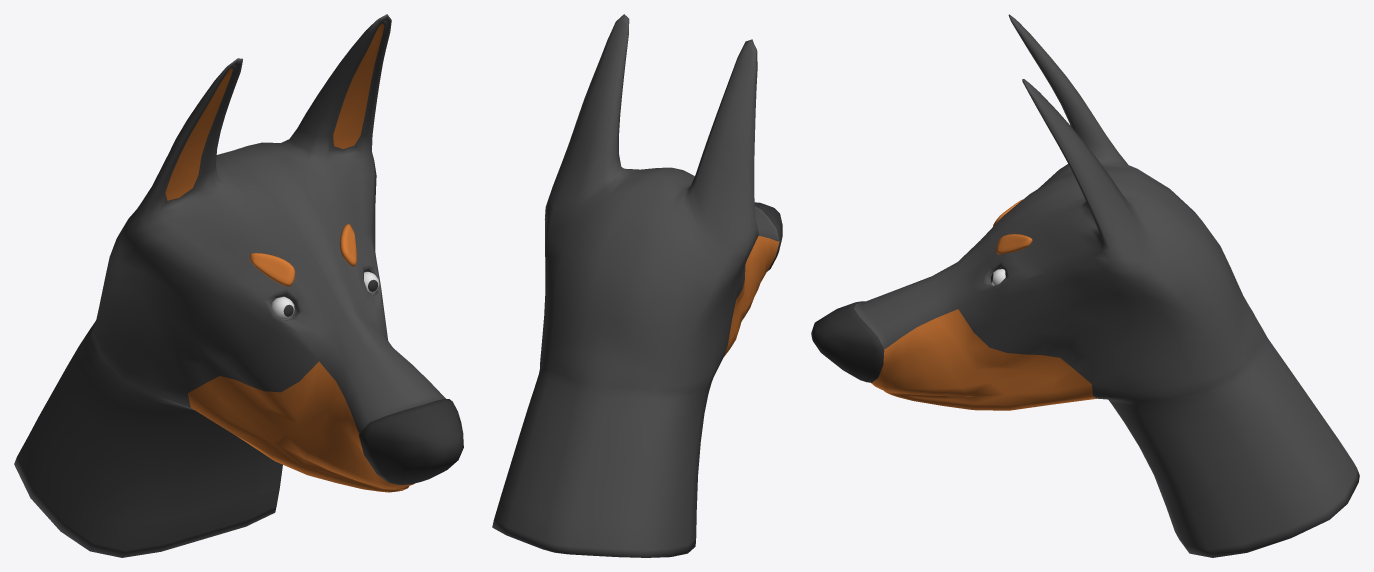
The model's file is DogHead.FBX.
3 views of the same model, side by side, from view 1: azimuth 30°, elevation 25°; view 2: azimuth 150°, elevation 25°; view 3: azimuth 270°, elevation 25° (orthographic). The views are drawn at different scales.
Parts seen in each view (by area): view 1: Doggy Head; view 2: Doggy Head; view 3: Doggy Head.
Part boxes in pixels (x1,y1,x2,y2): Doggy Head: [14, 14, 463, 557]; Doggy Head: [492, 14, 782, 557]; Doggy Head: [811, 14, 1359, 557].
Bounding box in the file's own units: 7.88 × 16.97 × 17.55.
